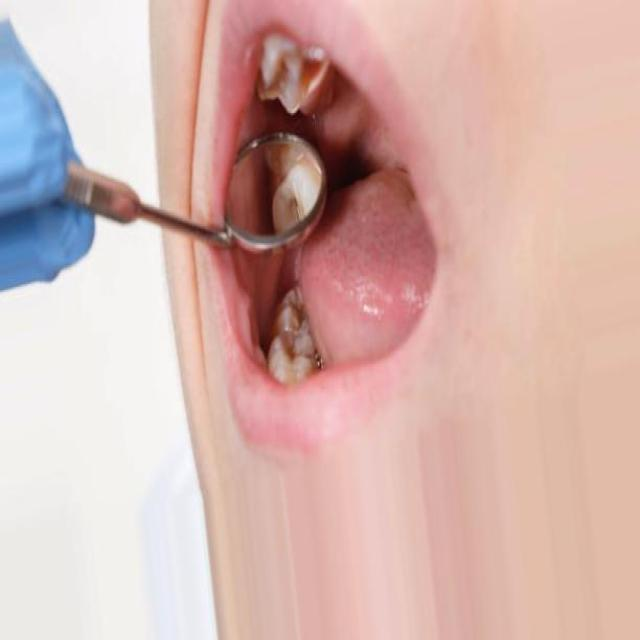caries: (262, 23, 336, 112)
